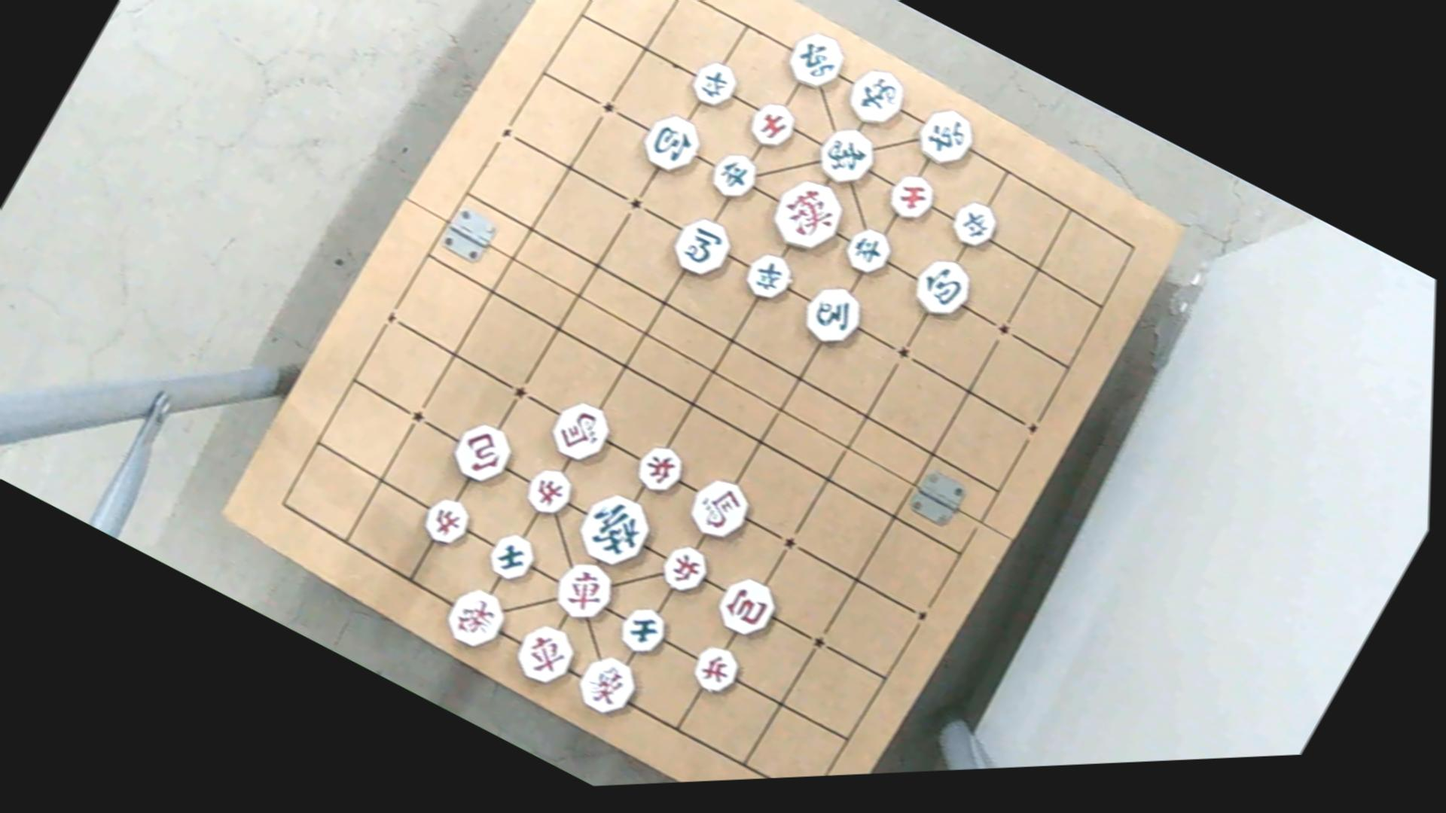cha_green: (908, 98, 984, 171), (778, 25, 853, 96)
cha_red: (505, 614, 586, 692), (544, 551, 623, 627)
jol_green: (704, 145, 767, 208), (737, 245, 799, 309), (837, 220, 900, 280), (942, 193, 1005, 252), (682, 52, 744, 111)
jol_red: (520, 459, 585, 521), (682, 639, 746, 700), (629, 437, 692, 498), (413, 492, 477, 552), (654, 537, 718, 596)
ma_green: (795, 279, 872, 354), (665, 209, 740, 280)
ma_red: (680, 467, 760, 544), (545, 394, 618, 465)
po_green: (903, 251, 979, 324), (636, 106, 711, 178)
po_red: (442, 413, 523, 489), (707, 568, 784, 643)
sa_green: (480, 526, 543, 587), (613, 600, 676, 660)
sa_red: (743, 96, 804, 157), (881, 169, 941, 226)
sang_green: (838, 61, 915, 134), (808, 117, 883, 189)
sang_red: (566, 644, 647, 720), (436, 580, 514, 656)
wang_green: (568, 486, 657, 574)
wang_red: (764, 171, 851, 257)
